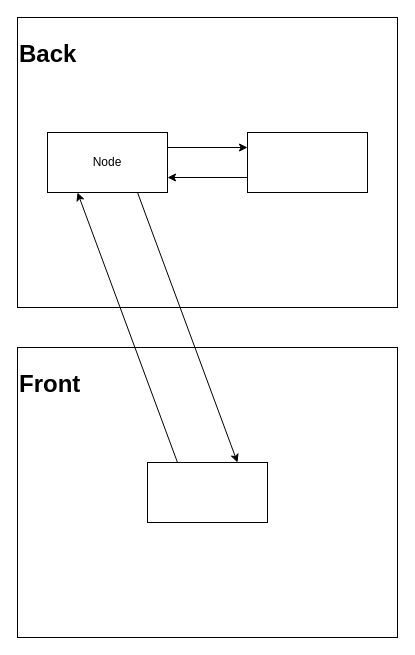
This 415x655 diagram has some shape labels left out. Here are the shapes that lost their labels. From the top down, the centre of each, then its label:
At (x=307, y=162): "Mysql".
At (x=207, y=492): "React".
